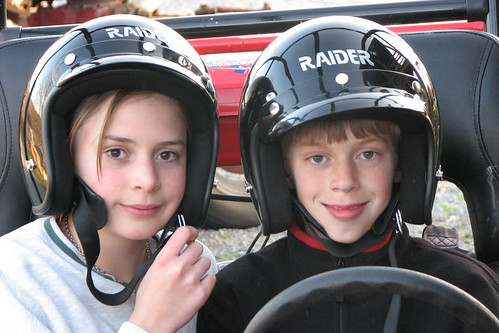helmet: (231, 9, 447, 135), (22, 1, 221, 111)
